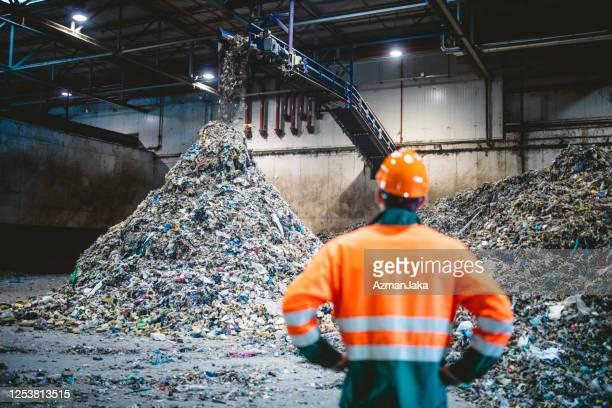garbage: (99, 37, 302, 338), (450, 147, 612, 408)
